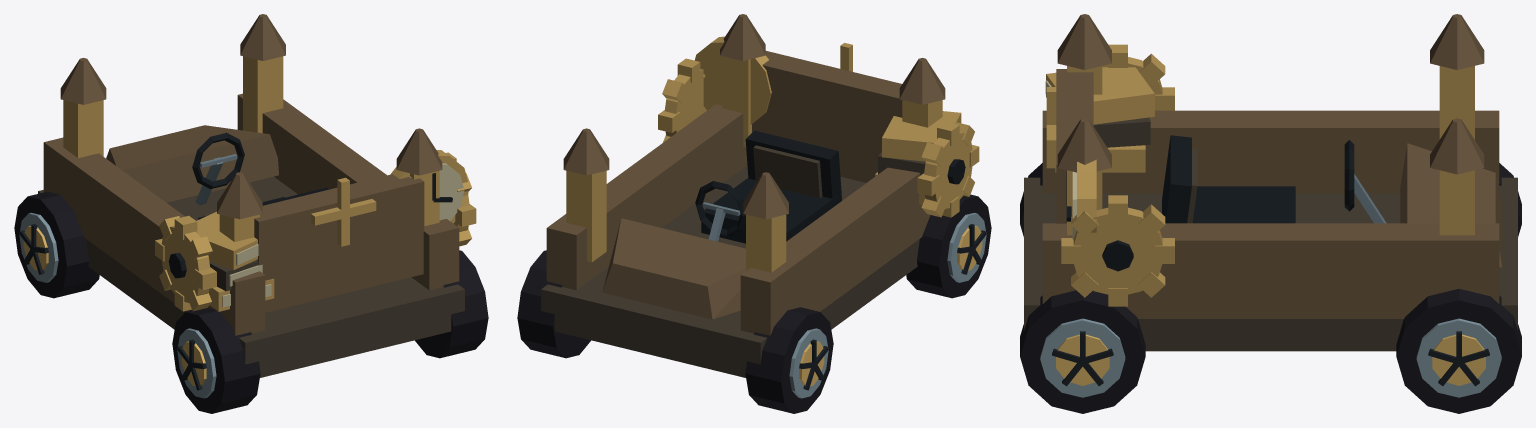
File: kart.glb
3 renders of one model, left to right at view 1: azimuth 30°, elevation 25°; view 2: azimuth 150°, elevation 25°; view 3: azimuth 270°, elevation 25°, orthographic. The views are drawn at different scales.
Parts seen in each view (by area): view 1: identity-reliquary-reliquary-arched-stone-chest, wheel-rear-left, wheel-front-left, identity-reliquary-motif-gears, wheel-rear-right, identity-reliquary-motif-books, identity-reliquary-driver-cockpit, identity-reliquary-motif-clock; view 2: identity-reliquary-reliquary-arched-stone-chest, identity-reliquary-driver-cockpit, identity-reliquary-motif-gears, wheel-front-left, wheel-rear-left, wheel-front-right, identity-reliquary-motif-books, identity-reliquary-motif-clock; view 3: identity-reliquary-reliquary-arched-stone-chest, wheel-front-right, wheel-rear-right, identity-reliquary-motif-gears, identity-reliquary-driver-cockpit, identity-reliquary-motif-books, identity-reliquary-motif-clock.
Boxes of the visible parts, x1,y1,x2,y2 form: identity-reliquary-reliquary-arched-stone-chest: (38, 14, 464, 377); wheel-rear-left: (172, 307, 260, 413); wheel-front-left: (14, 191, 99, 298); identity-reliquary-motif-gears: (155, 152, 476, 311); wheel-rear-right: (415, 250, 488, 358); identity-reliquary-motif-books: (196, 211, 274, 311); identity-reliquary-driver-cockpit: (192, 132, 329, 219); identity-reliquary-motif-clock: (390, 150, 468, 223); identity-reliquary-reliquary-arched-stone-chest: (541, 14, 945, 377); identity-reliquary-driver-cockpit: (695, 130, 841, 243); identity-reliquary-motif-gears: (658, 58, 979, 217); wheel-front-left: (745, 307, 833, 413); wheel-rear-left: (906, 194, 991, 298); wheel-front-right: (517, 250, 590, 358); identity-reliquary-motif-books: (875, 111, 961, 204); identity-reliquary-motif-clock: (694, 36, 771, 124); identity-reliquary-reliquary-arched-stone-chest: (1024, 14, 1517, 351); wheel-front-right: (1396, 288, 1521, 413); wheel-rear-right: (1020, 290, 1145, 413); identity-reliquary-motif-gears: (1061, 44, 1174, 306); identity-reliquary-driver-cockpit: (1162, 135, 1386, 223); identity-reliquary-motif-books: (1045, 67, 1154, 172); identity-reliquary-motif-clock: (1066, 159, 1096, 239).
Size of the model in its own units: 1.97 by 1.51 by 2.56.
